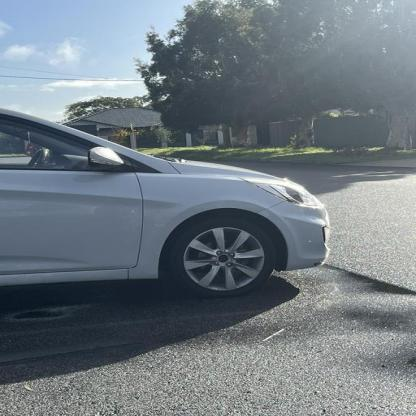Tire: (165, 214, 277, 297)
